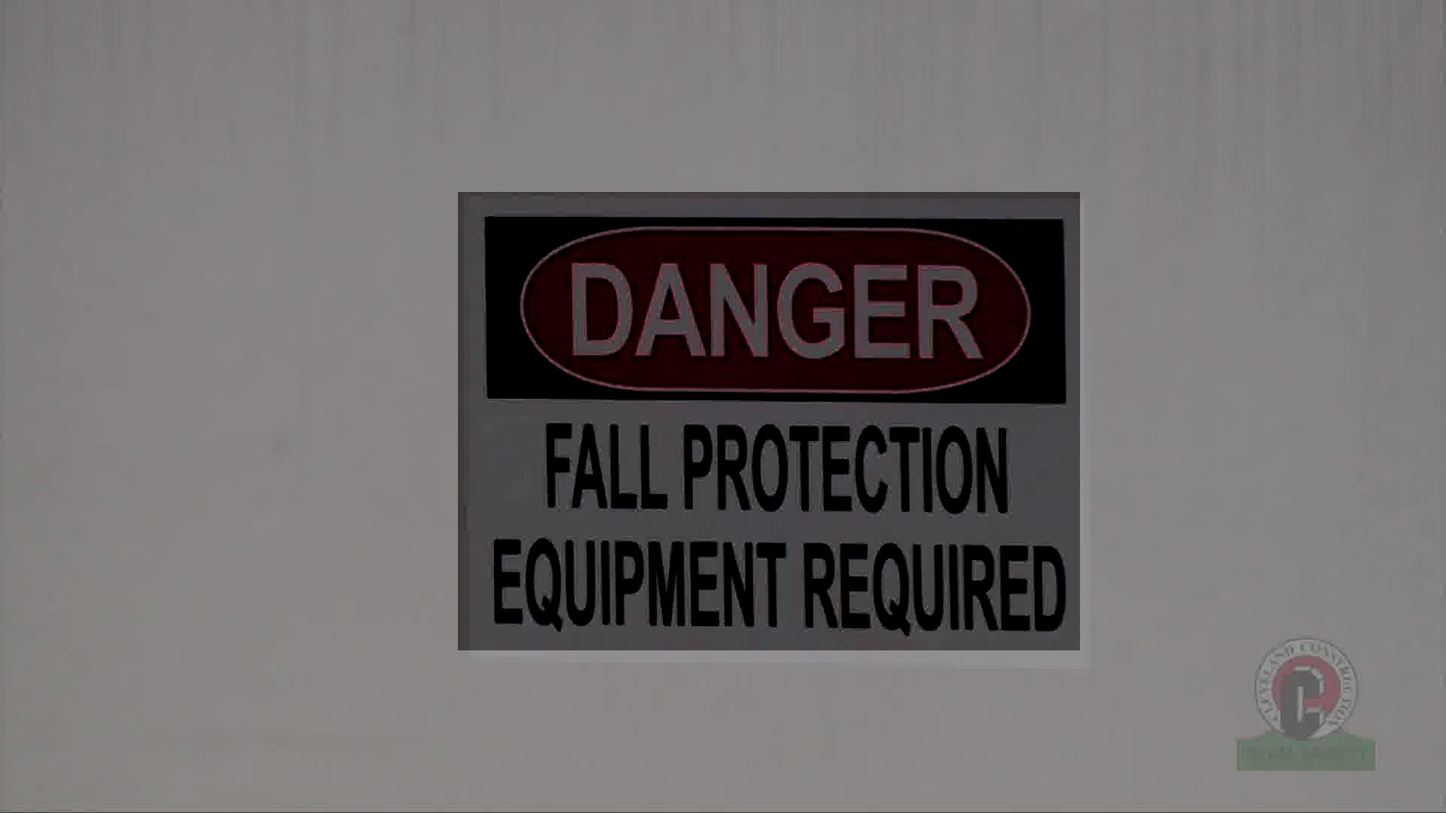safety_signage: (458, 192, 1080, 650)
